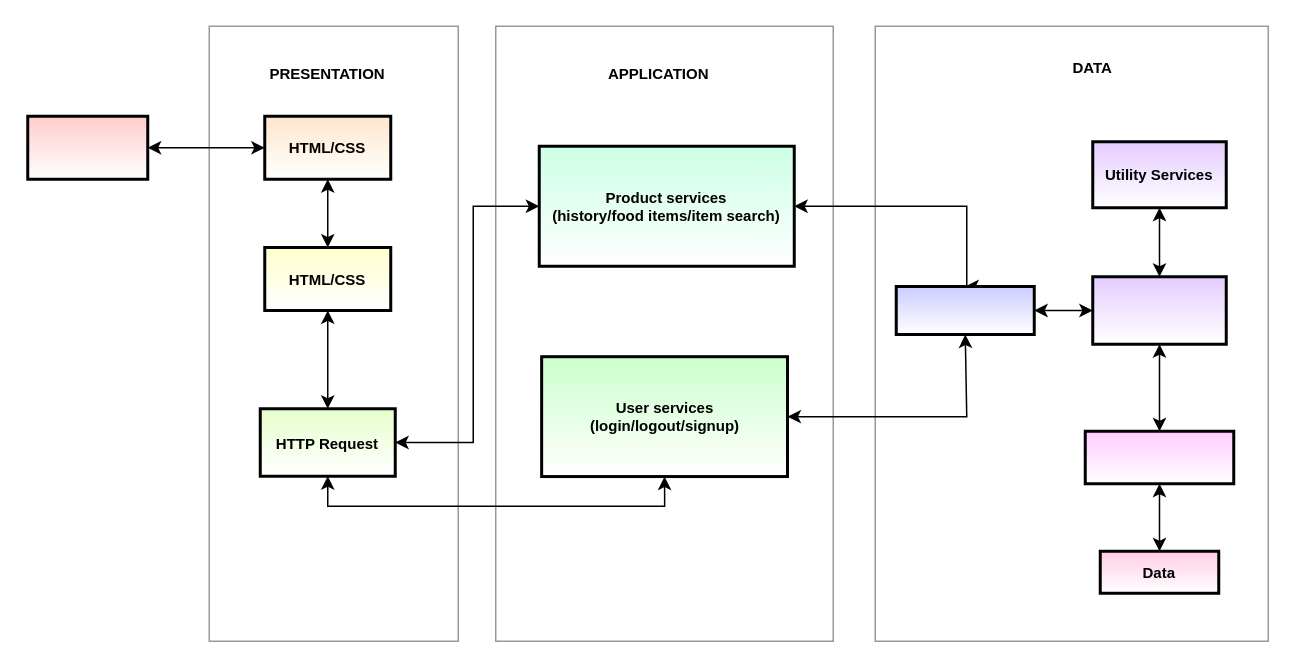
The diagram is 1295 pixels wide and 668 high, and some of its shapes have lost their labels. Each missing label, with the box of its shape:
Data Interface: (894, 284, 1035, 335)
Database Query Services: (1090, 274, 1227, 345)
POSTGRES DBMS: (1083, 429, 1234, 484)
User: (26, 114, 148, 180)
